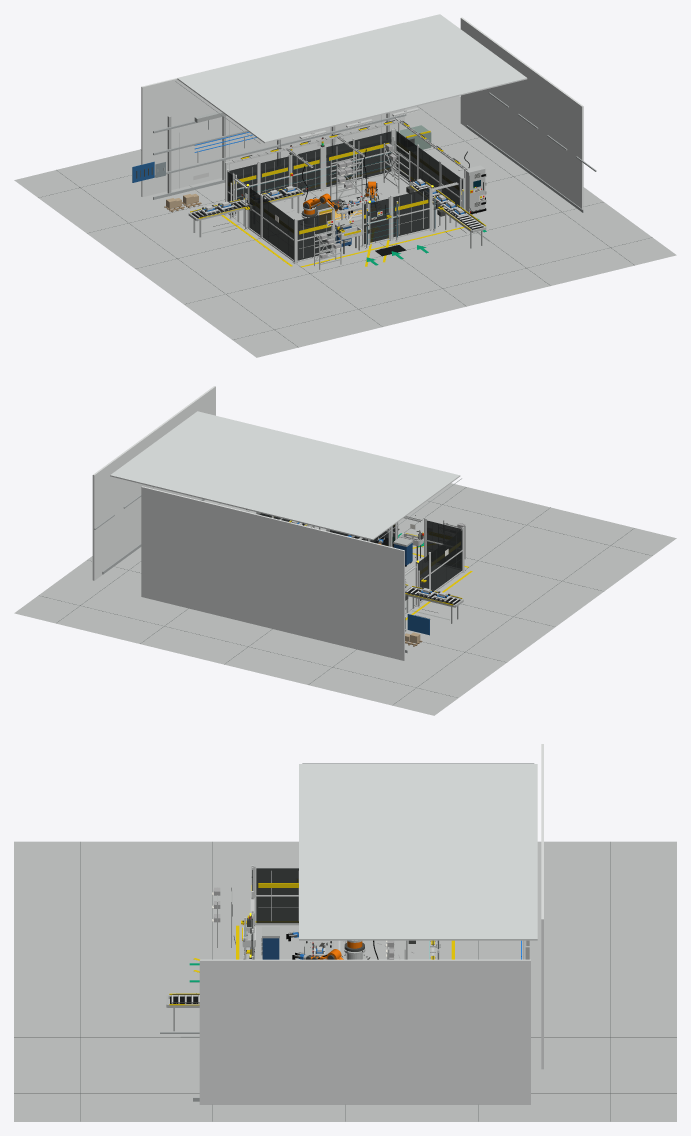
The model's file is robotic-arm-assembly-cell.glb.
3 renders of one model, top to bottom at view 1: azimuth 30°, elevation 25°; view 2: azimuth 150°, elevation 25°; view 3: azimuth 270°, elevation 25°, orthographic. The views are drawn at different scales.
Visible parts, largest first — view 1: floor_concrete, distant_factory_ceiling_soft_panel_field, distant_factory_right_wall_hint, distant_factory_back_wall, fence_panel_N_4, fence_panel_S_between_gate_and_output, fence_panel_W_1, fence_panel_S_left_remainder_to_pass_through, fence_panel_N_3, fence_panel_N_2, access_gate_main, control_cabinet_main (+11 smaller); view 2: floor_concrete, distant_factory_back_wall, distant_factory_ceiling_soft_panel_field, distant_factory_right_wall_hint, fence_panel_W_1, fence_panel_S_left_remainder_to_pass_through, input_conveyor_external_feed; view 3: floor_concrete, distant_factory_right_wall_hint, distant_factory_ceiling_soft_panel_field, fence_panel_W_1, distant_factory_back_wall, tool_cabinet_main.
Boxes of the visible parts, x1,y1,x2,y2 form: floor_concrete: (14, 96, 676, 357); distant_factory_ceiling_soft_panel_field: (177, 14, 527, 143); distant_factory_right_wall_hint: (460, 17, 583, 209); distant_factory_back_wall: (141, 22, 404, 197); fence_panel_N_4: (323, 129, 395, 189); fence_panel_S_between_gate_and_output: (392, 186, 431, 238); fence_panel_W_1: (261, 195, 294, 261); fence_panel_S_left_remainder_to_pass_through: (296, 210, 333, 262); fence_panel_N_3: (291, 147, 321, 193); fence_panel_N_2: (260, 154, 289, 193); access_gate_main: (368, 196, 390, 244); control_cabinet_main: (465, 165, 486, 214); floor_concrete: (14, 483, 676, 715); distant_factory_back_wall: (141, 486, 404, 660); distant_factory_ceiling_soft_panel_field: (110, 411, 460, 540); distant_factory_right_wall_hint: (92, 386, 215, 580); fence_panel_W_1: (430, 528, 463, 590); fence_panel_S_left_remainder_to_pass_through: (425, 518, 462, 557); input_conveyor_external_feed: (405, 586, 463, 623); floor_concrete: (14, 841, 676, 1121); distant_factory_right_wall_hint: (199, 959, 530, 1104); distant_factory_ceiling_soft_panel_field: (299, 764, 537, 940); fence_panel_W_1: (253, 866, 298, 925); distant_factory_back_wall: (541, 744, 543, 1069); tool_cabinet_main: (261, 927, 279, 959).
Bounding box in the file's own units: 20 × 5.13 × 20.
